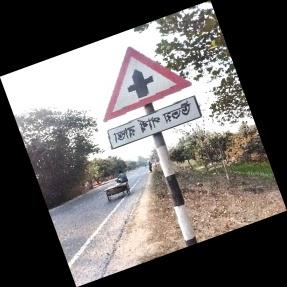Crossroad: (101, 45, 200, 154)
